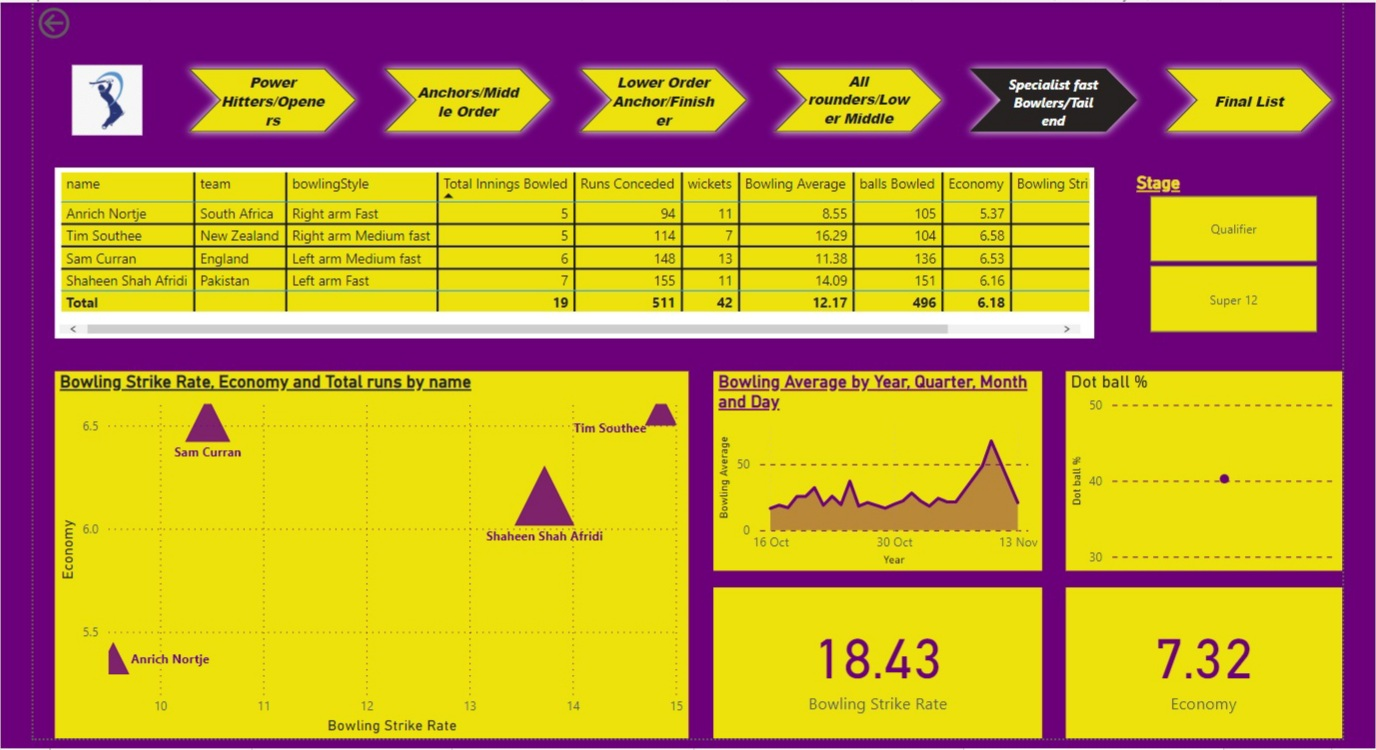

The dashboard page shown, as its layout file describes it:
{"tool":"powerbi","page":{"name":"Specialist fast Bowlers/Tail end  ","canvas":[1280,720],"ordinal":4},"visuals":[{"type":"tableEx","fields":{"Values":["dim_players.name","dim_players.team","dim_players.bowlingStyle","key_measures.Total Innings Bowled","key_measures.Runs Conceded","key_measures.wickets","key_measures.Bowling Average","key_measures.balls Bowled","key_measures.Economy","key_measures.Bowling Strike Rate","key_measures.Dot ball %"]},"box":[20.8,161.4,1017,167.5],"z":0},{"type":"actionButton","box":[0,0,100,40],"z":1000},{"type":"scatterChart","fields":{"Y":["key_measures.Economy"],"X":["key_measures.Bowling Strike Rate"],"Category":["dim_players.name"],"Size":["key_measures.Total runs"]},"box":[20.8,360.6,619.8,359.4],"z":2000},{"type":"areaChart","fields":{"Y":["key_measures.Bowling Average"],"Category":["dim_match_summary.matchDate.Variation.Date Hierarchy.Year","dim_match_summary.matchDate.Variation.Date Hierarchy.Quarter","dim_match_summary.matchDate.Variation.Date Hierarchy.Month","dim_match_summary.matchDate.Variation.Date Hierarchy.Day"]},"box":[665,360.6,321.5,195.6],"z":3000},{"type":"areaChart","fields":{"Y":["key_measures.Dot ball %"]},"box":[1009.7,360.6,270.2,195.6],"z":4000},{"type":"card","fields":{"Values":["key_measures.Bowling Strike Rate"]},"box":[665,572.1,321.5,147.9],"z":5000},{"type":"card","fields":{"Values":["key_measures.Economy"]},"box":[1009.7,572.1,270.2,147.9],"z":6000},{"type":"slicer","fields":{"Values":["dim_match_summary.Stage"]},"box":[1065.9,161.4,213.9,167.5],"z":7000},{"type":"pageNavigator","box":[143,56.2,1136.8,78.2],"z":8000},{"type":"image","box":[20.8,56.2,102.7,78.2],"z":9000}]}

Visuals, with their boxes in screenshot pixels (x1, y1, x2, y2):
tableEx - dim_players.name x dim_players.team: 50,162,1093,334
actionButton: 29,0,131,37
scatterChart - key_measures.Economy x key_measures.Bowling Strike Rate: 50,366,686,735
areaChart - key_measures.Bowling Average x dim_match_summary.matchDate.Variation.Date Hierarchy.Year: 711,366,1041,567
areaChart - key_measures.Dot ball %: 1064,366,1342,567
card - key_measures.Bowling Strike Rate: 711,583,1041,735
card - key_measures.Economy: 1064,583,1342,735
slicer - dim_match_summary.Stage: 1122,162,1341,334
pageNavigator: 175,54,1341,134
image: 50,54,155,134
